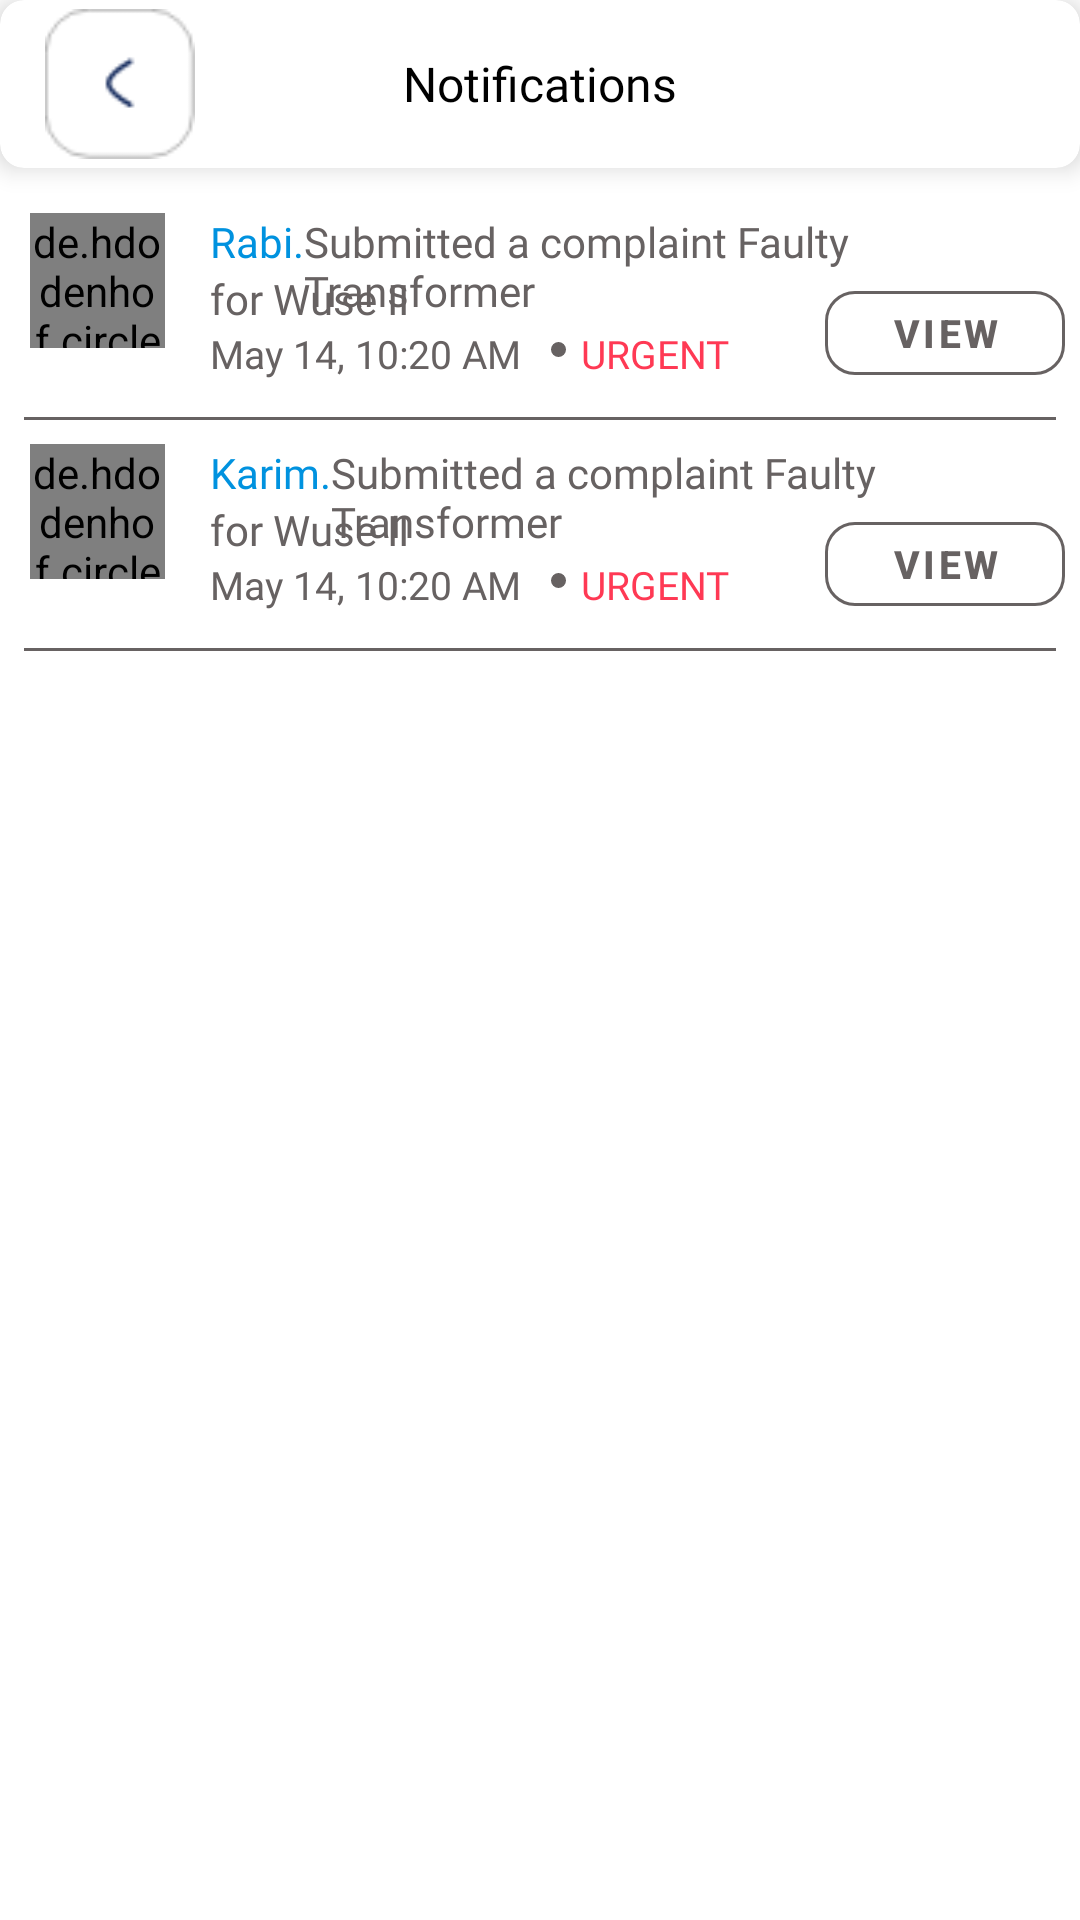

Point at icon controls on the screen. Image size 1080*1920, points as (x,y).
back: (120,84)
